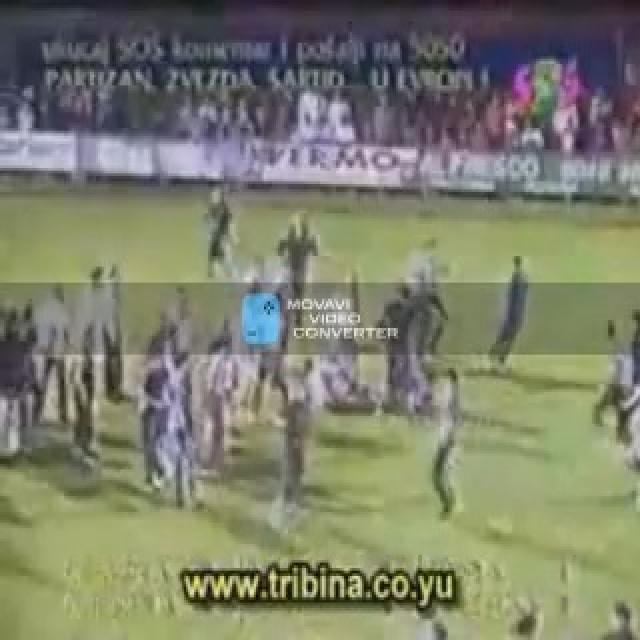non-voilence: (0, 8, 638, 635), (0, 232, 550, 531), (6, 16, 638, 192), (486, 253, 528, 368), (200, 182, 240, 278)
